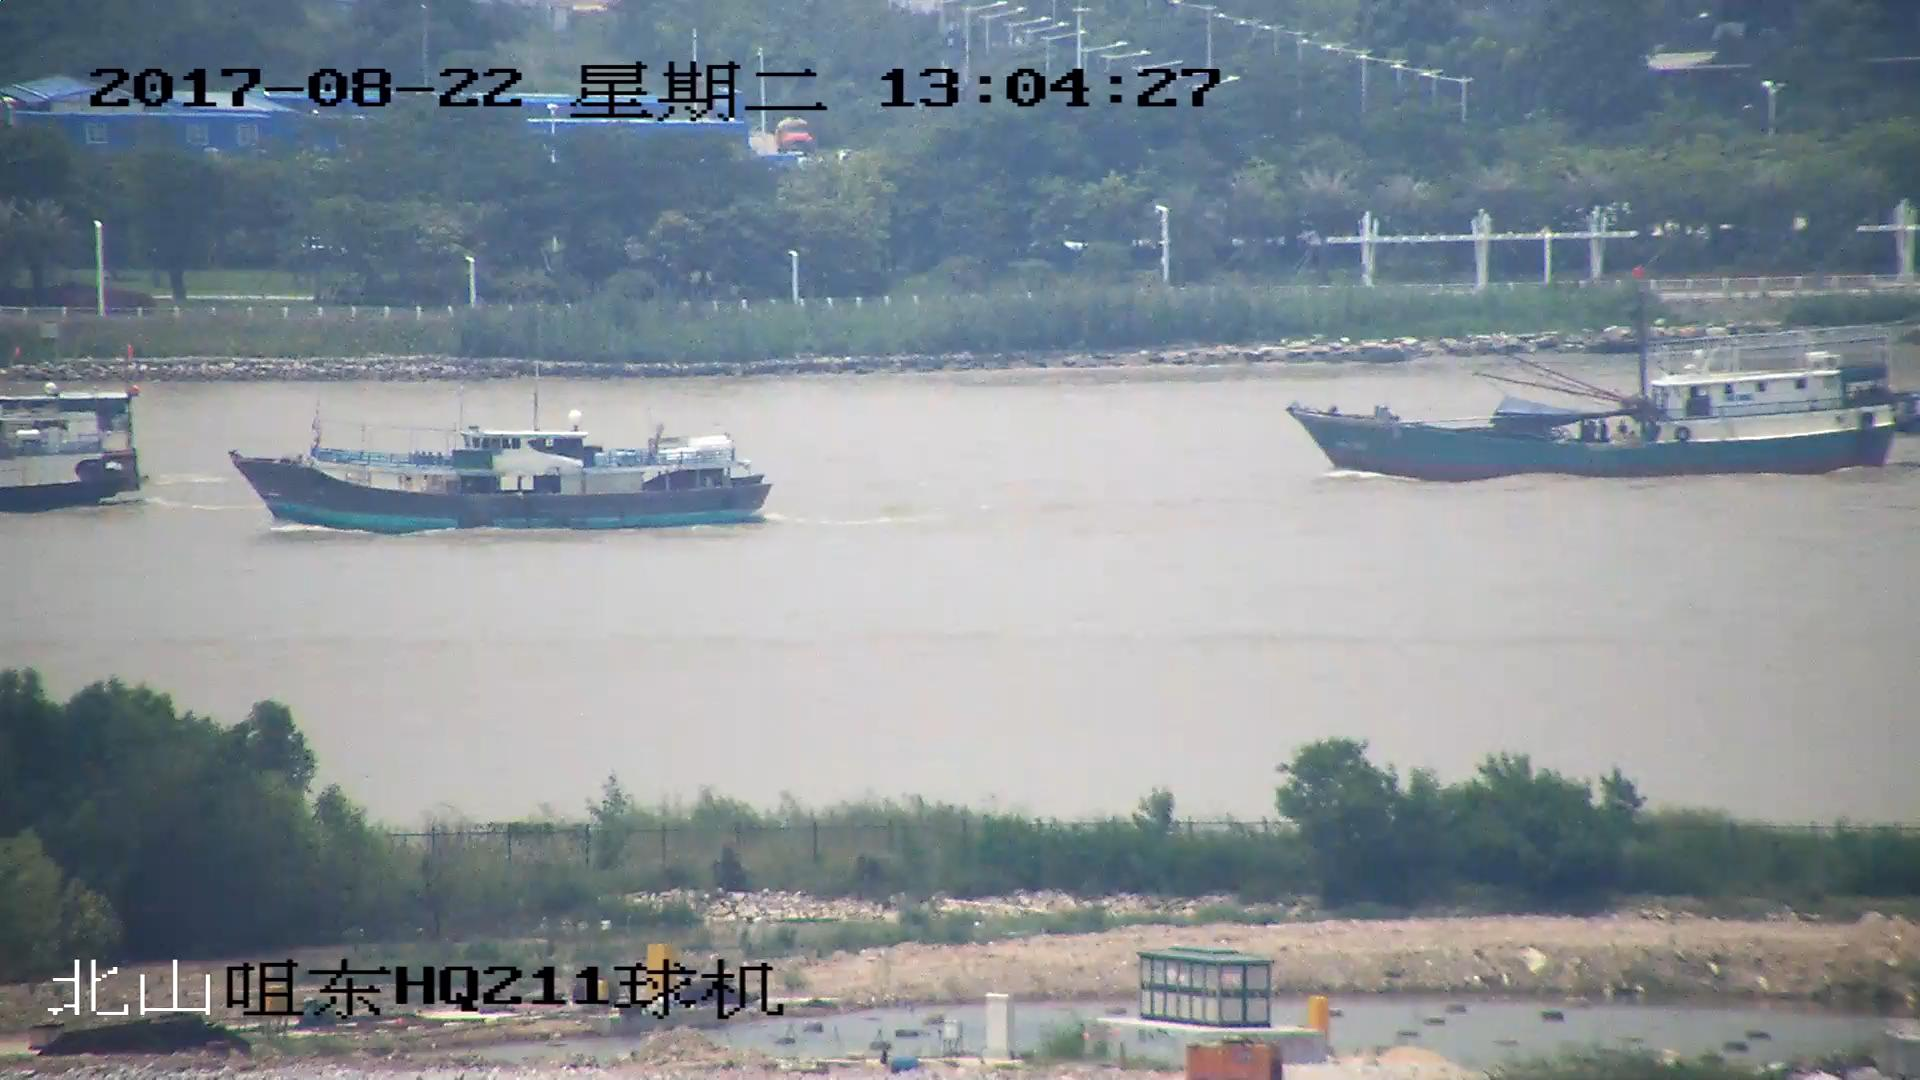fishing boat: (1291, 286, 1920, 485), (229, 410, 770, 537), (1, 381, 150, 512)
